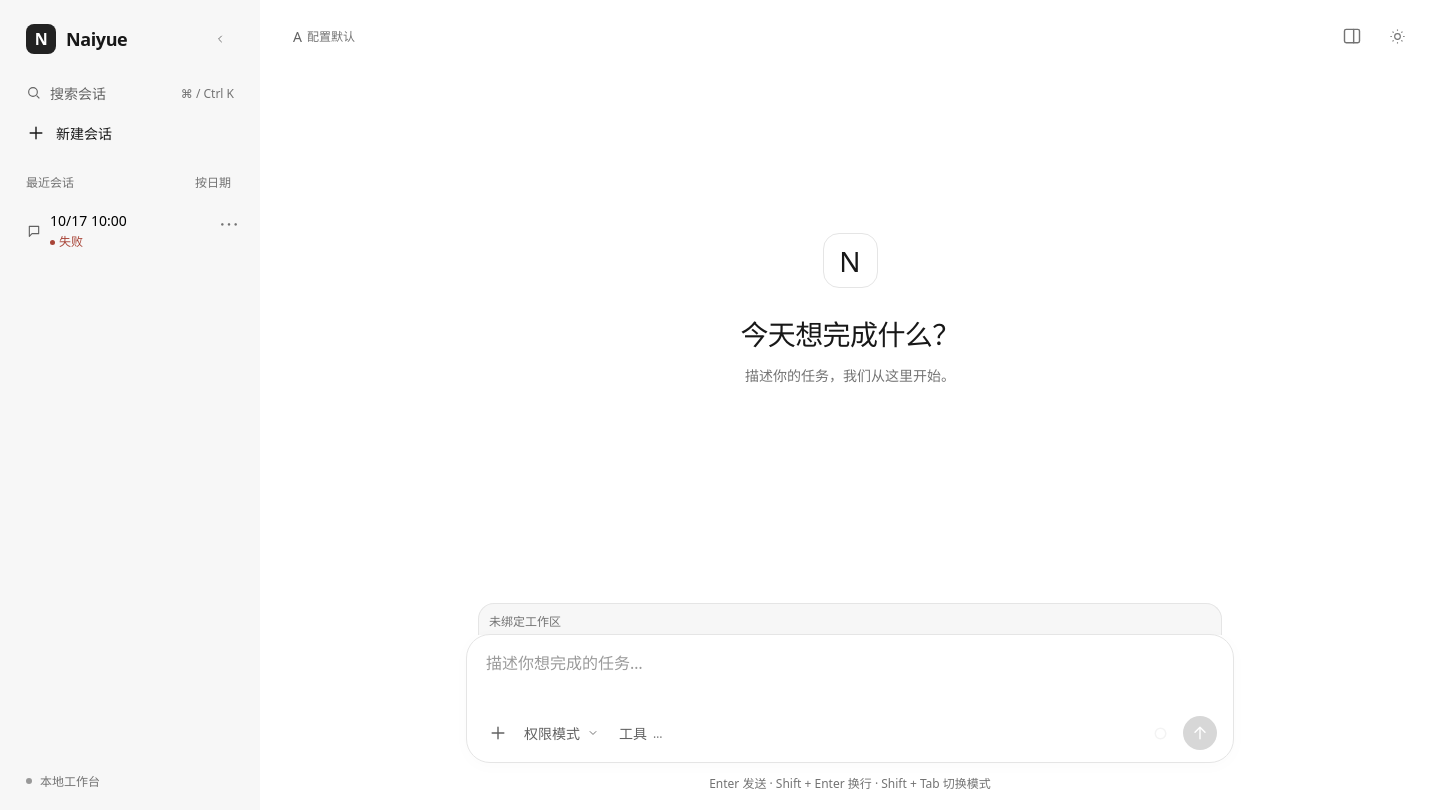
Test case: automatically recovers on opening, keeps the draft, and waits for a new send
Expected: the element named "任务状态：失败" is shown, [50,233,83,251]
Click the button with aria-label " A" at (130, 231), box [14,202,246,260]
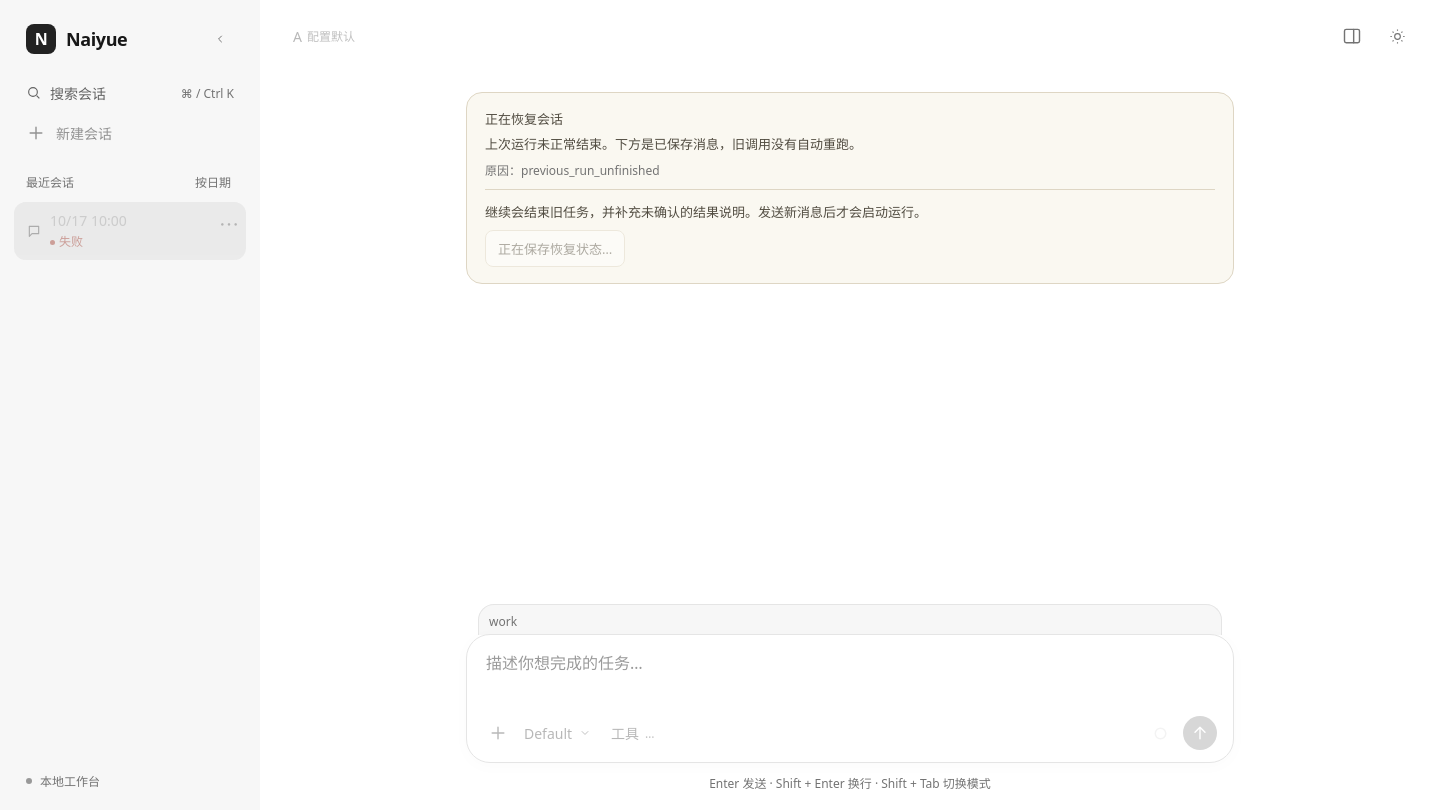
Type "retained new input" into the text box named "消息" at (850, 676), box [483,650,1217,703]
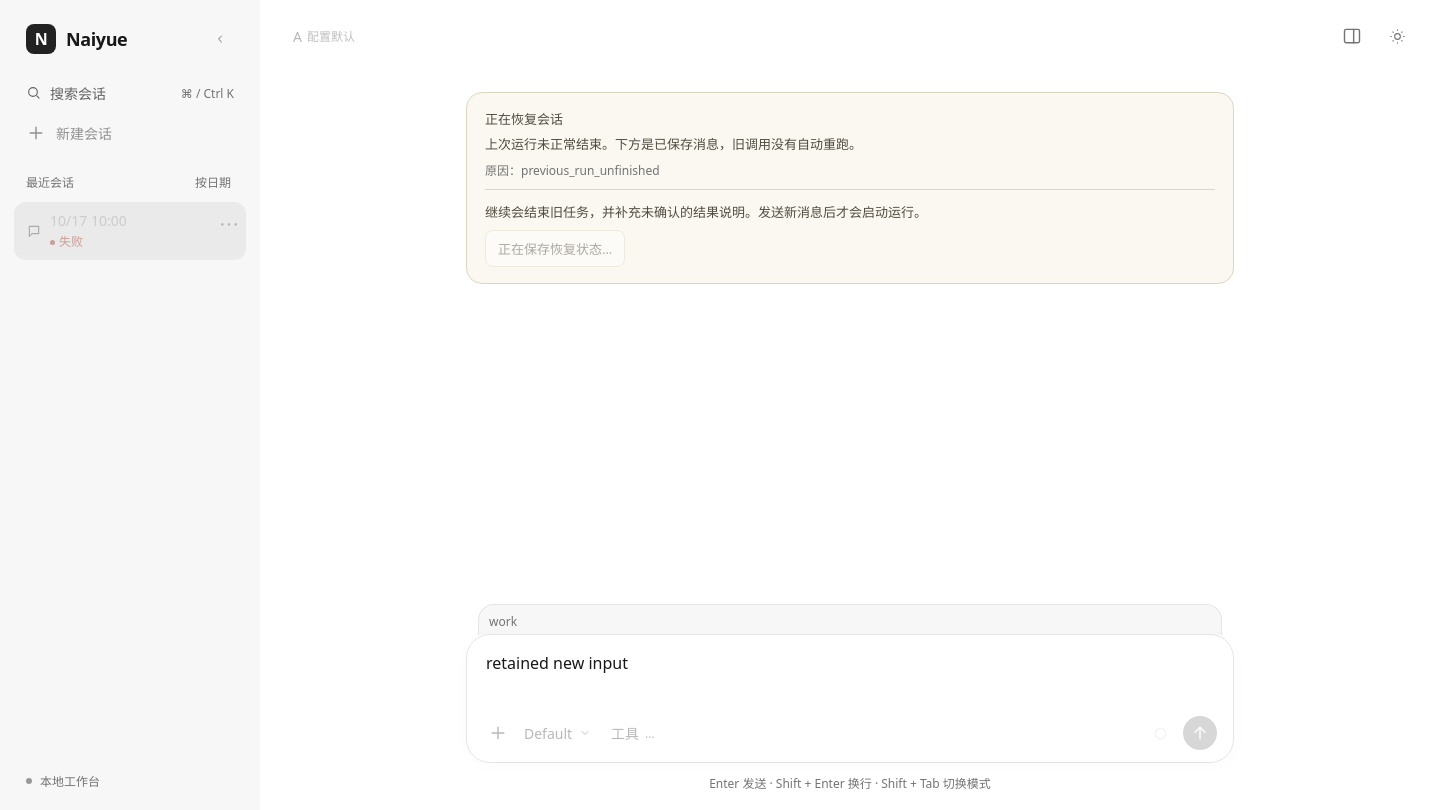
Result: the button with aria-label "结束旧运行并继续会话" is disabled at [485,230,625,267]
Result: the button "新建会话" is disabled at [14,114,246,152]
Press Enter in the text box named "消息", box [483,650,1217,703]
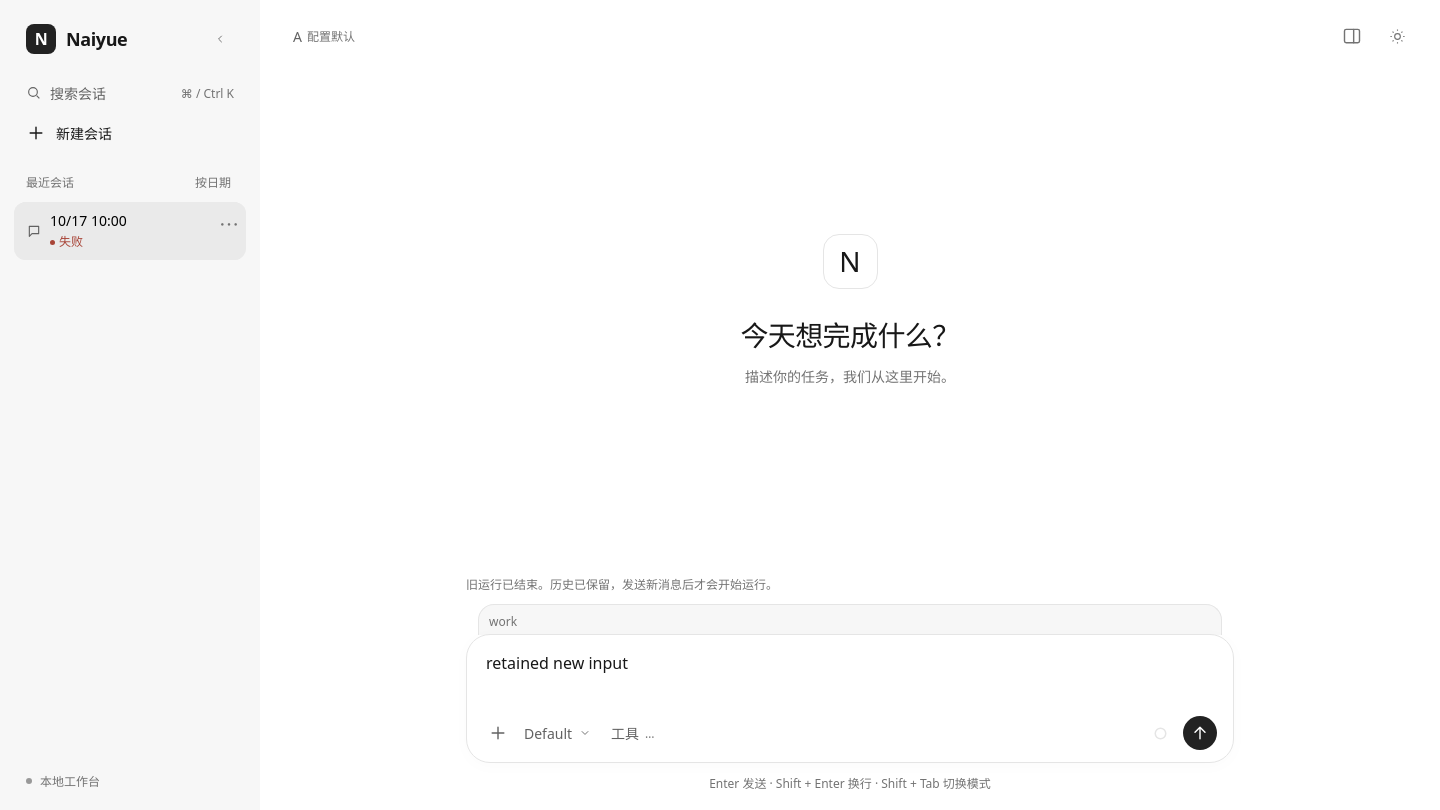
Result: the button named "发送消息" is enabled at [1183,716,1217,750]
